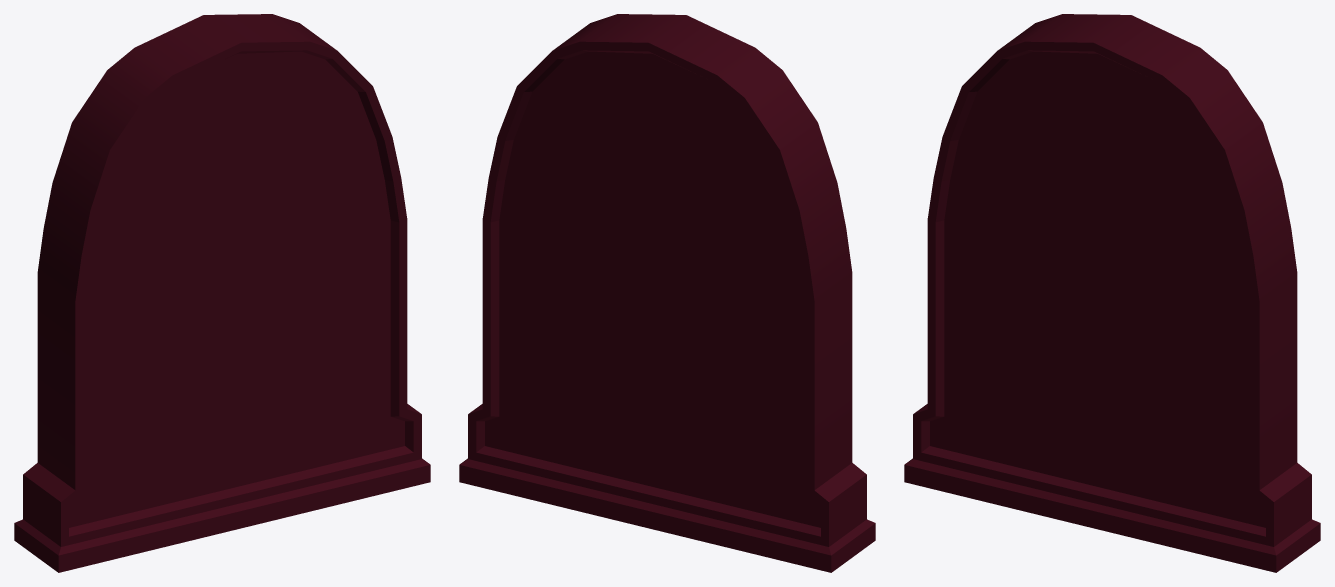
Rendered from Tomb_1.fbx.
3 views of the same model, side by side, from view 1: azimuth 30°, elevation 25°; view 2: azimuth 150°, elevation 25°; view 3: azimuth 330°, elevation 25° (orthographic).
Parts seen in each view (by area): view 1: Tomb_1; view 2: Tomb_1; view 3: Tomb_1.
Boxes of the visible parts, x1,y1,x2,y2 form: Tomb_1: (14,14,430,572); Tomb_1: (459,14,875,572); Tomb_1: (904,14,1320,572).
Bounding box in the file's own units: 8.5 × 10.54 × 1.76.
